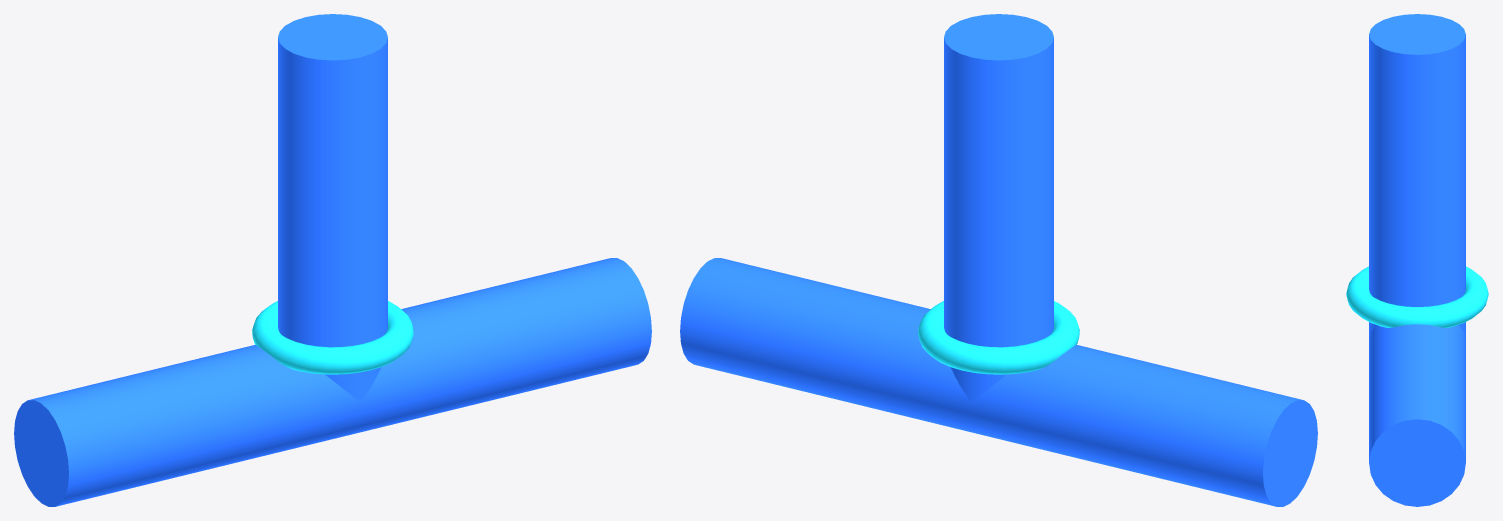
The model's file is pipe-tee.glb.
3 views of the same model, side by side, from view 1: azimuth 30°, elevation 25°; view 2: azimuth 150°, elevation 25°; view 3: azimuth 270°, elevation 25° (orthographic). The views are drawn at different scales.
Parts seen in each view (by area): view 1: Pipe tee; view 2: Pipe tee; view 3: Pipe tee.
Boxes of the visible parts, x1,y1,x2,y2 form: Pipe tee: (14,14,651,506); Pipe tee: (680,14,1317,506); Pipe tee: (1346,14,1488,506).
Bounding box in the file's own units: 2.2 × 1.43 × 0.53.
